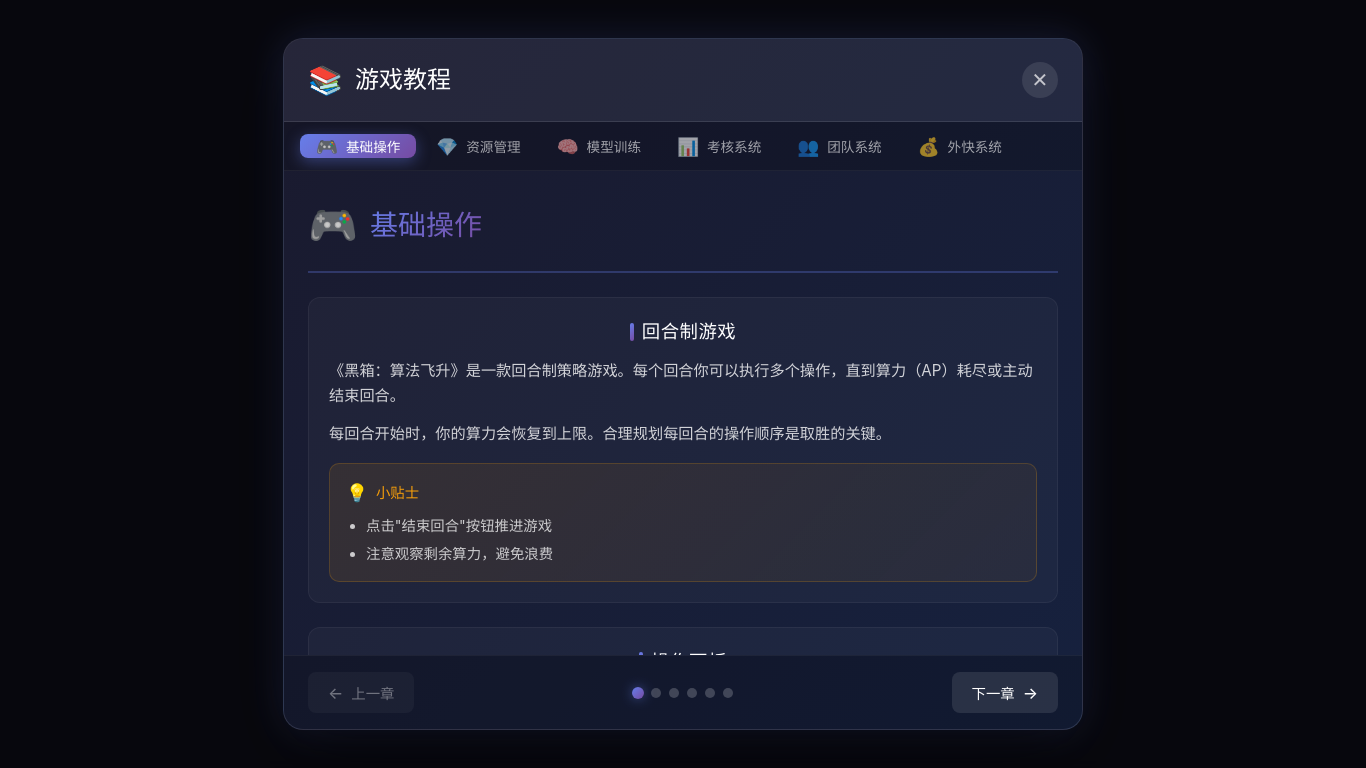
Test: TutorialModal 组件单元测试 › 页码指示器 › 点击页码点应该切换到对应章节
Note: 点击第三个页码点（模型训练）
Click the button named "跳转到第3章" at (674, 692), box [669, 688, 679, 698]
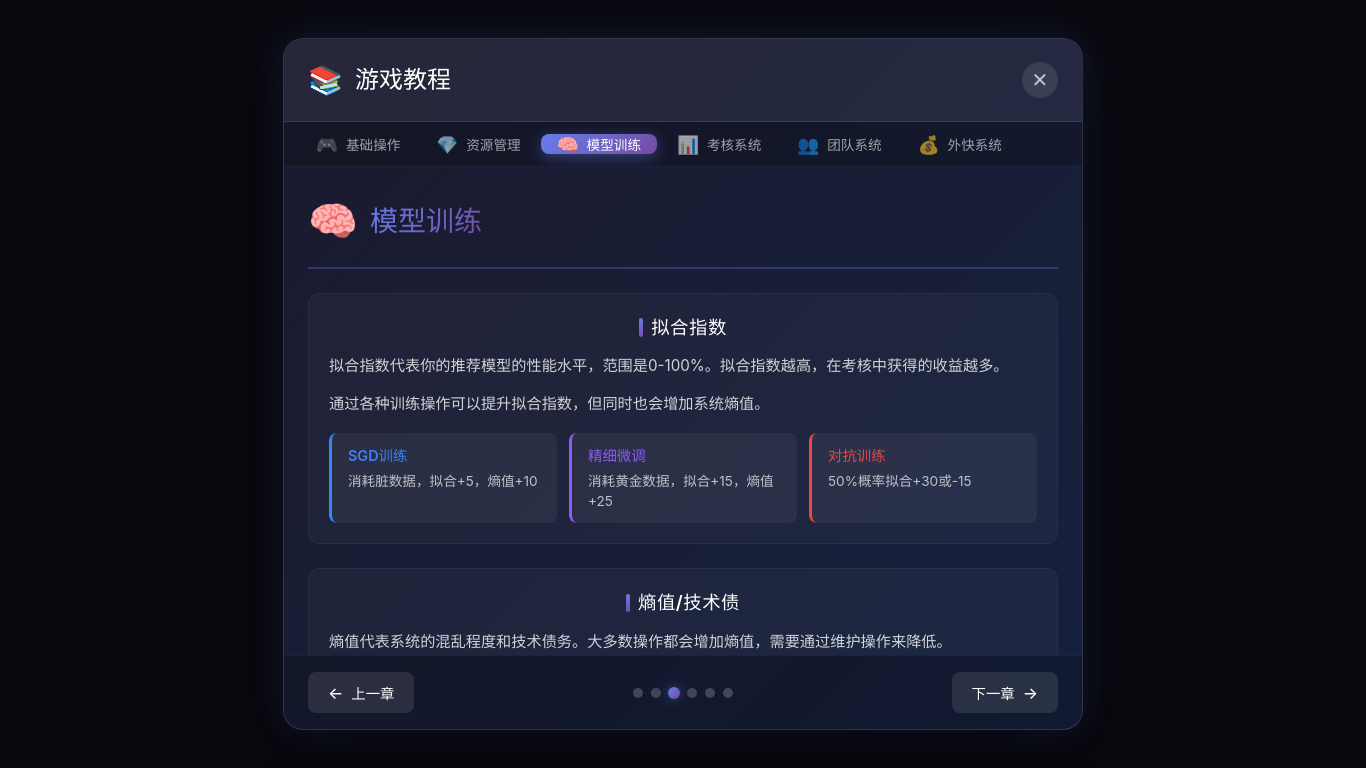
Expected: the heading "拟合指数" is shown, [651, 316, 727, 338]
